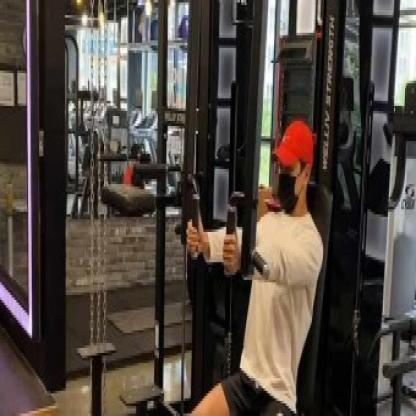chest fly machine: (168, 0, 352, 416)
